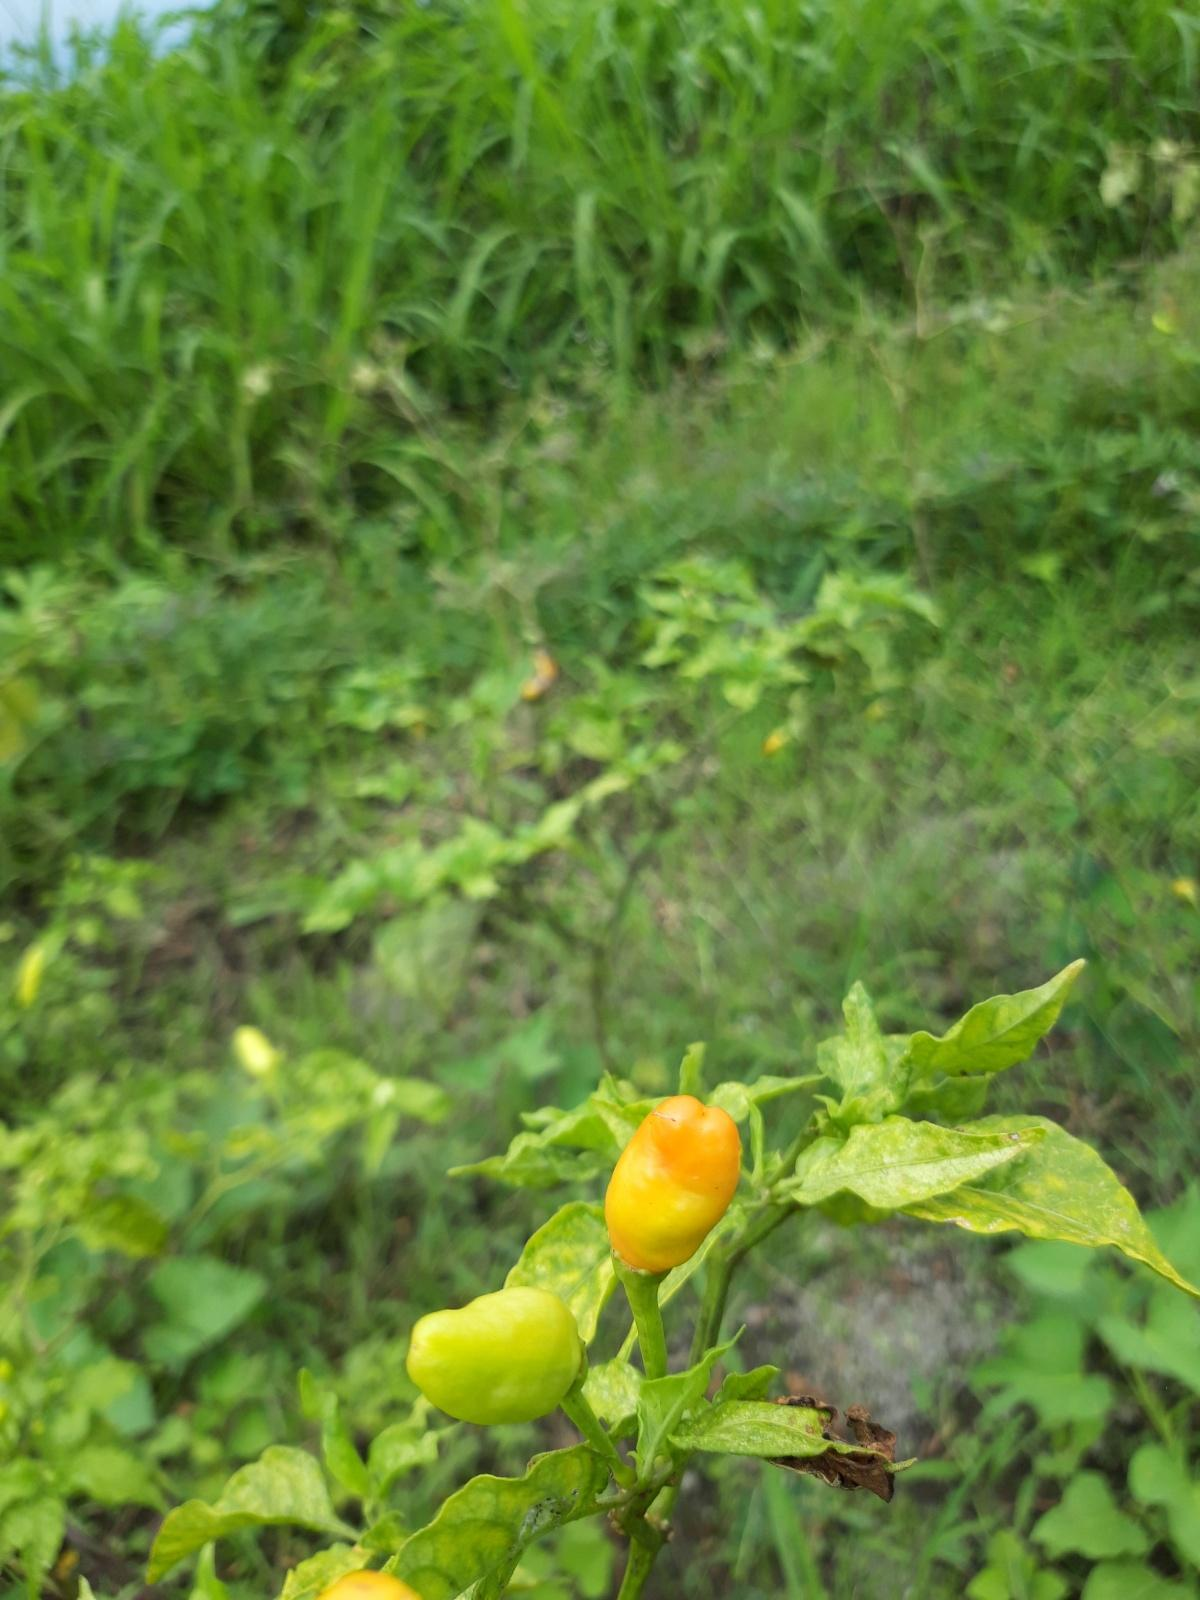cabai_normal: (405, 1281, 581, 1424), (606, 1092, 742, 1275)
